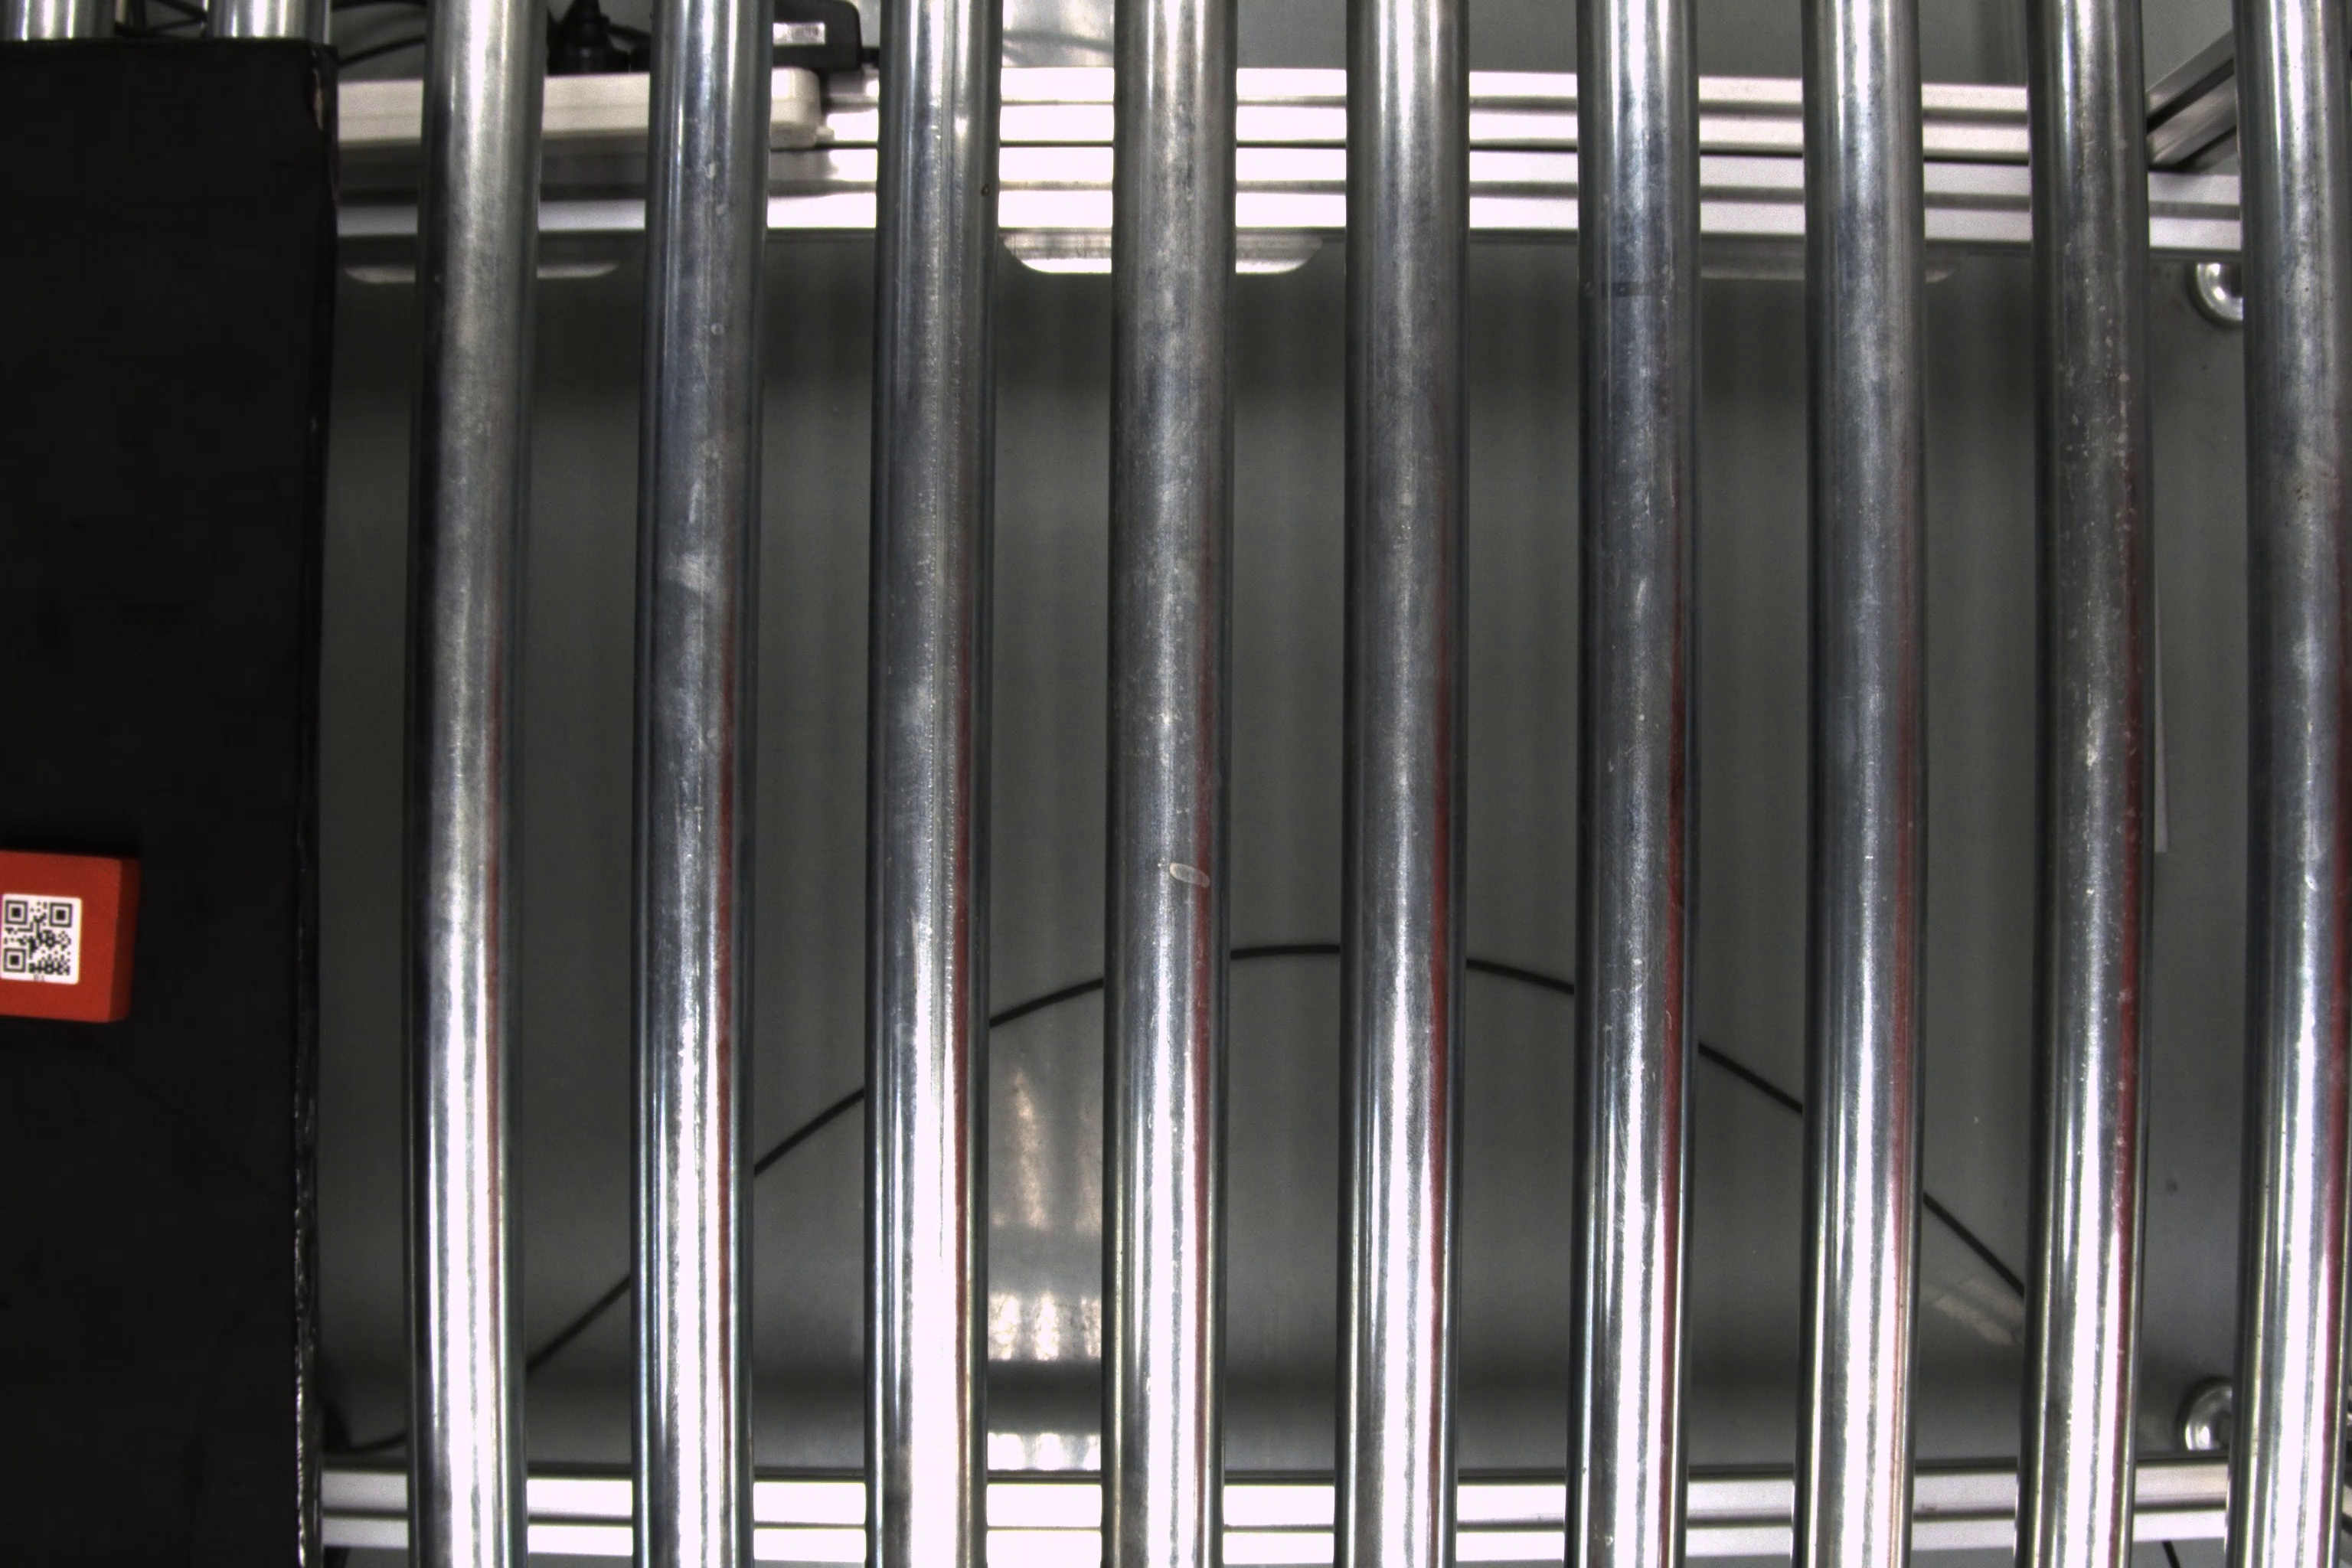wood: (5, 845, 138, 1029)
